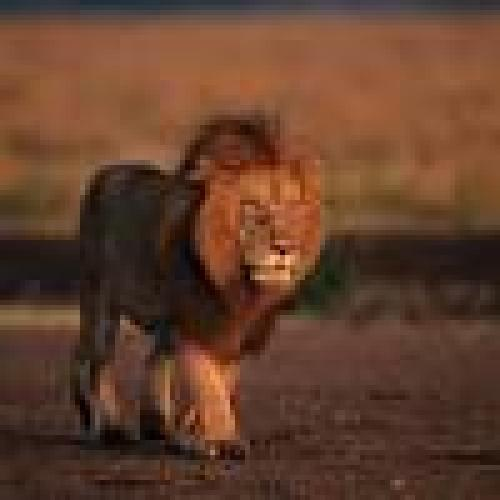lion-endangered: (65, 102, 321, 459)
